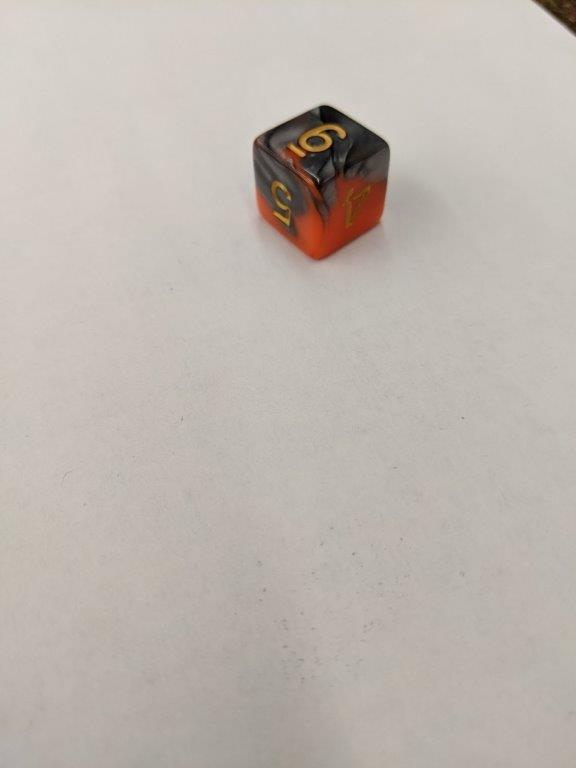d6-6: (252, 102, 389, 261)
